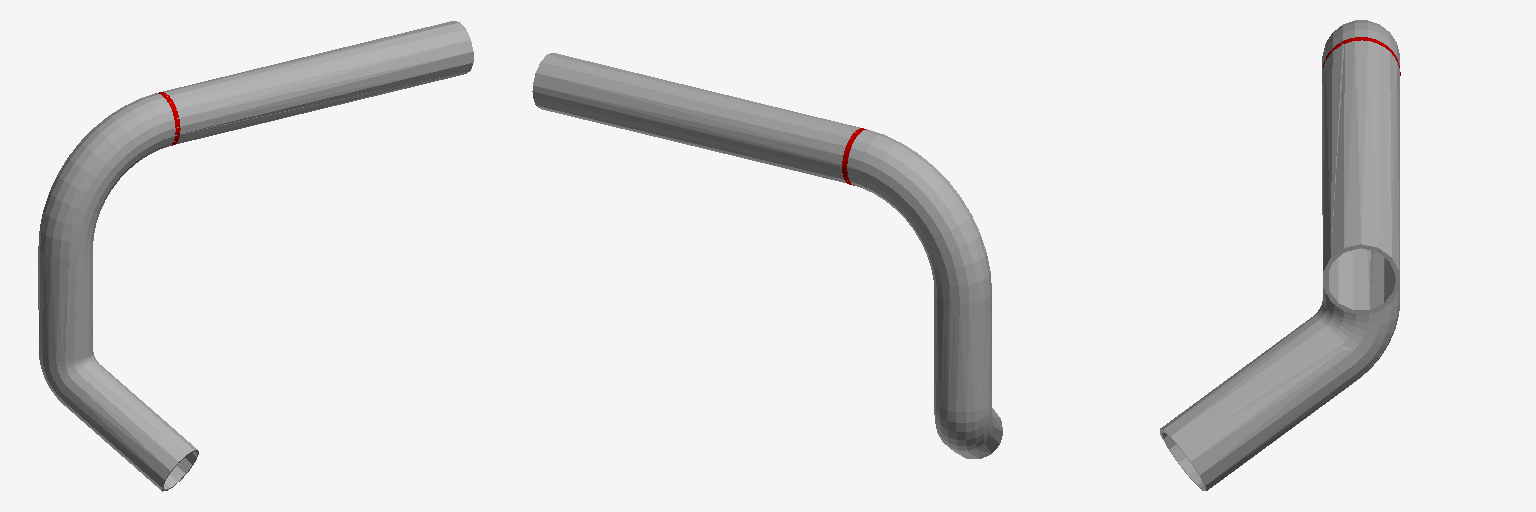
URDF robot description (tube_9_asm):
<?xml version="1.0" ?>

<robot
  name="tube_9_asm">
  
  <material name="Blue">
    <color rgba="0.0 0.0 0.8 1.0"/>
  </material>
  <material name="Green">
    <color rgba="0.0 0.8 0.0 1.0"/>
  </material>
  <material name="Grey">
    <color rgba="0.7 0.7 0.7 1.0"/>
  </material>
  <material name="Grey2">
    <color rgba="0.9 0.9 0.9 1.0"/>
  </material>
  <material name="Red">
    <color rgba="0.8 0.0 0.0 1.0"/>
  </material>
  <material name="White">
    <color rgba="1.0 1.0 1.0 1.0"/>
  </material>
  <material name="Black">
    <color rgba="0.1 0.1 0.1 1.0"/>
  </material>
  <material name="LightGrey">
    <color rgba="0.6 0.6 0.6 1.0"/>
  </material>
    
  <link
    name="tube_link">
    <inertial>
      <origin
        xyz="-0.26816 0.075034 -0.042483"
        rpy="0 0 0" />
      <!--mass
        value="2.1884" /-->
      <mass
	value="0.5" />
      <inertia
        ixx="0.024183"
        ixy="0.017942"
        ixz="-0.0018039"
        iyy="0.038001"
        iyz="-0.0038561"
        izz="0.058434" />
    </inertial>
    <visual>
      <origin
        xyz="0 0 0"
        rpy="0 0 0" />
      <geometry>
        <mesh
          filename="package://tube_polishing/data/models/tube_9_asm/meshes/tube_link.stl" />
      </geometry>
      <material name="Grey"/>
    </visual>
    <collision>
      <origin
        xyz="0 0 0"
        rpy="0 0 0" />
      <geometry>
        <mesh
          filename="package://tube_polishing/data/models/tube_9_asm/meshes/tube_link.stl" />
      </geometry>
    </collision>
  </link>
  <gazebo reference="tube_link">
    <material name="Grey"/>
  </gazebo>
  <link
    name="ring">
    <inertial>
      <origin
        xyz="-0.0025 0 7.494E-16"
        rpy="0 0 0" />
      <mass
        value="2.7285E-05" />
      <inertia
        ixx="1.588E-08"
        ixy="2.5589E-39"
        ixz="1.4805E-36"
        iyy="7.9969E-09"
        iyz="-2.4325E-38"
        izz="7.9969E-09" />
    </inertial>
    <visual>
      <origin
        xyz="0 0 0"
        rpy="0 0 0" />
      <geometry>
        <mesh filename="package://tube_polishing/data/models/tube_9_asm/meshes/ring.stl" />
      </geometry>
      <material name="Red"/>
    </visual>
    <collision>
      <origin
        xyz="0 0 0"
        rpy="0 0 0" />
      <geometry>
        <mesh
          filename="package://tube_polishing/data/models/tube_9_asm/meshes/ring.stl" />
      </geometry>
    </collision>
  </link>
  <gazebo reference="ring">
    <material>Gazebo/Green</material>
  </gazebo>
  <joint
    name="tube_to_ring"
    type="fixed">
    <origin
      xyz="-0.28604 0.052068 0.15388"
      rpy="1.5708 0 0" />
    <parent
      link="tube_link" />
    <child
      link="ring" />
    <axis
      xyz="-1 0 0" />
  </joint>
</robot>

--- Render facts (derived) ---
Views: 3 orthographic renders of the robot side by side, from view 1: azimuth 30°, elevation 25°; view 2: azimuth 150°, elevation 25°; view 3: azimuth 270°, elevation 25°.
Robot: tube_9_asm — 2 links, 1 joints (1 fixed); root link tube_link; default pose: every joint at zero.
Links seen in each view (by area): view 1: tube_link; view 2: tube_link; view 3: tube_link.
Link boxes in pixels (left/top/right/bottom): tube_link: left=38, top=21, right=473, bottom=491; tube_link: left=532, top=53, right=1002, bottom=458; tube_link: left=1160, top=20, right=1399, bottom=490.
Bounding box of the posed robot: 0.4241 × 0.1487 × 0.3299 m (x, y, z).
2 mesh visuals loaded from 2 distinct referenced files (2 binary STL).